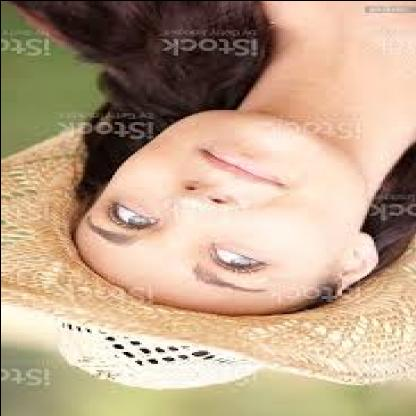hat: (2, 118, 416, 393)
